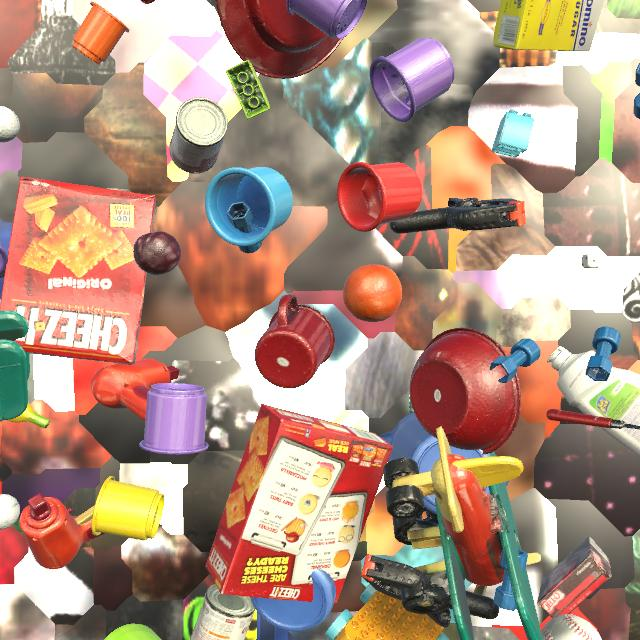ycb_003_cracker_box: (206, 404, 393, 604), (0, 177, 156, 365)
ycb_004_sugar_box: (493, 0, 604, 52)
ycb_005_tomato_soup_can: (169, 97, 228, 174), (190, 584, 255, 640)
ycb_007_tuna_fish_can: (0, 612, 1, 614)
ycb_008_pudding_box: (537, 536, 611, 619)
ycb_011_banana: (8, 402, 50, 429)
ycb_017_orange: (343, 264, 402, 322)
ycb_018_plum: (133, 231, 181, 275)
